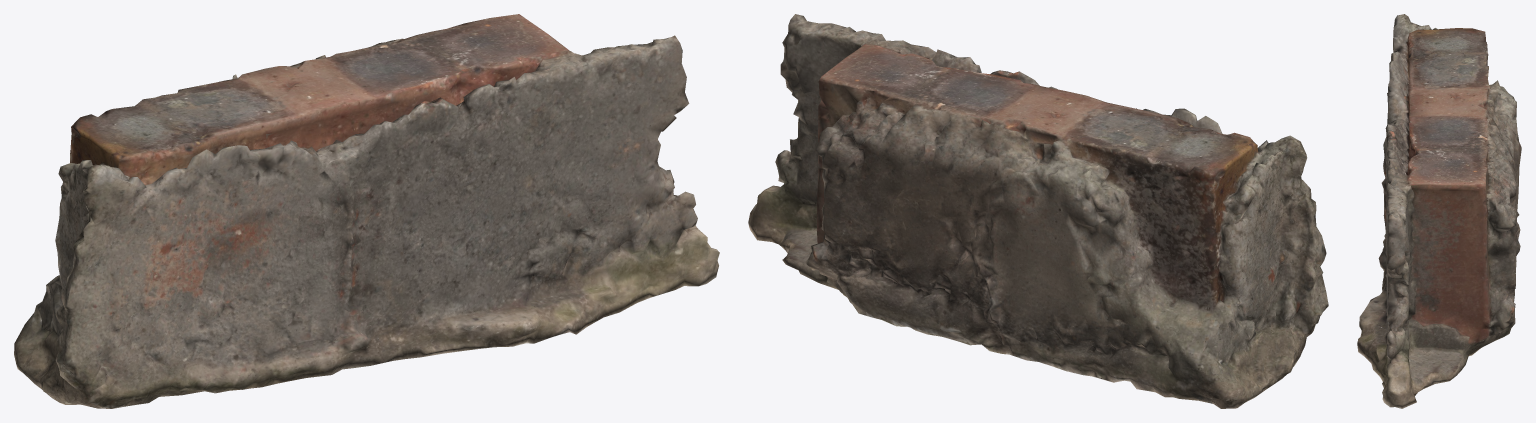
The model's file is PX_Brick_Ruins_20_LOD3.fbx.
The picture shows the model from 3 angles, left to right: view 1: azimuth 30°, elevation 25°; view 2: azimuth 150°, elevation 25°; view 3: azimuth 270°, elevation 25°; orthographic projection. The views are drawn at different scales.
Visible parts, largest first — view 1: PX_Brick_Ruins_20_LOD3; view 2: PX_Brick_Ruins_20_LOD3; view 3: PX_Brick_Ruins_20_LOD3.
Boxes of the visible parts, <box> form: PX_Brick_Ruins_20_LOD3: <box>14,14,719,408</box>; PX_Brick_Ruins_20_LOD3: <box>748,14,1328,408</box>; PX_Brick_Ruins_20_LOD3: <box>1357,14,1521,408</box>.
Size of the model in its own units: 38.69 by 14.55 by 11.85.
